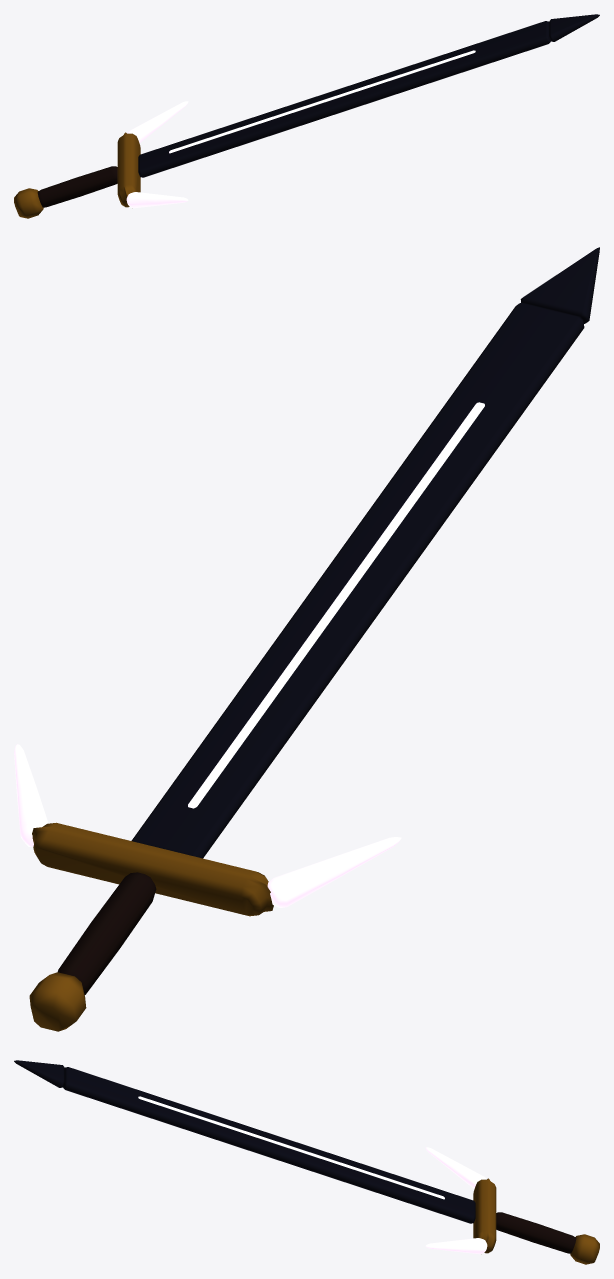
Rendered from Arma_LaminaVortice.fbx.
The picture shows the model from 3 angles, top to bottom: view 1: azimuth 90°, elevation 25°; view 2: azimuth 150°, elevation 25°; view 3: azimuth 270°, elevation 25°; orthographic projection. The views are drawn at different scales.
Parts seen in each view (by area): view 1: Piece; view 2: Piece; view 3: Piece.
Boxes of the visible parts, x1=… form: Piece: x1=14, y1=14, x2=599, y2=218; Piece: x1=14, y1=247, x2=599, y2=1031; Piece: x1=14, y1=1060, x2=599, y2=1264.
Size of the model in its own units: 0.4386 by 0.4184 by 1.1.
